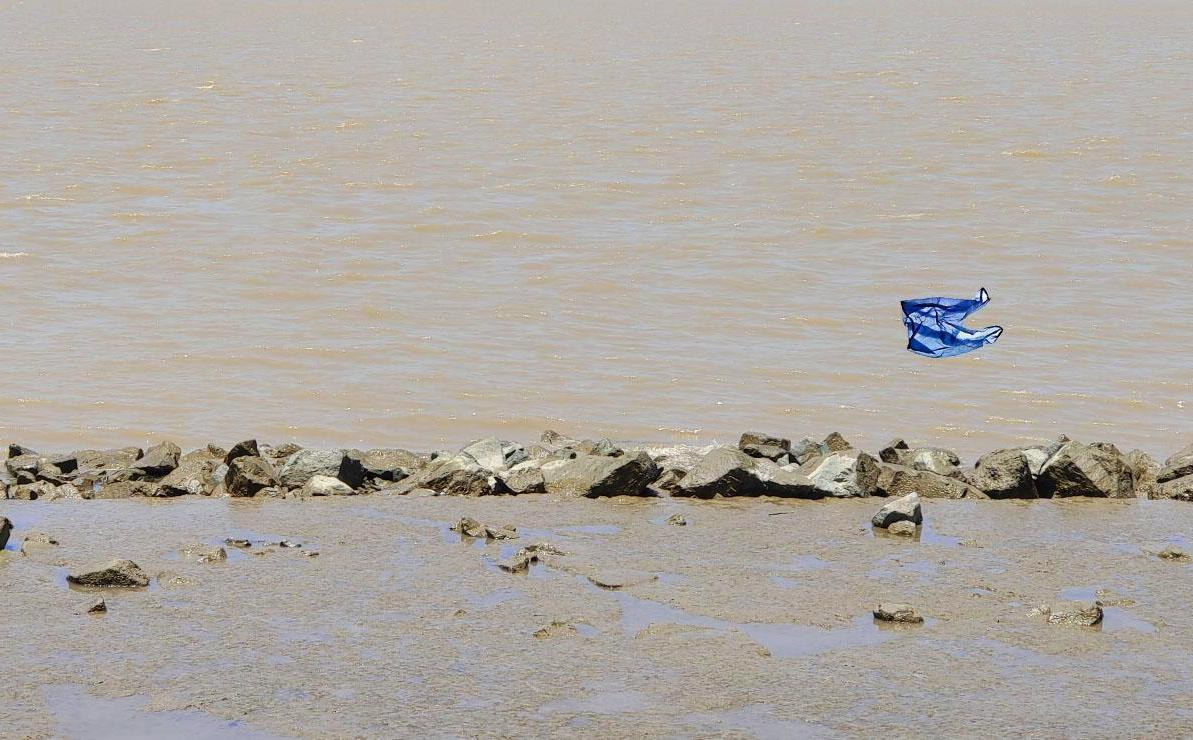Trash: (896, 281, 1006, 360)
